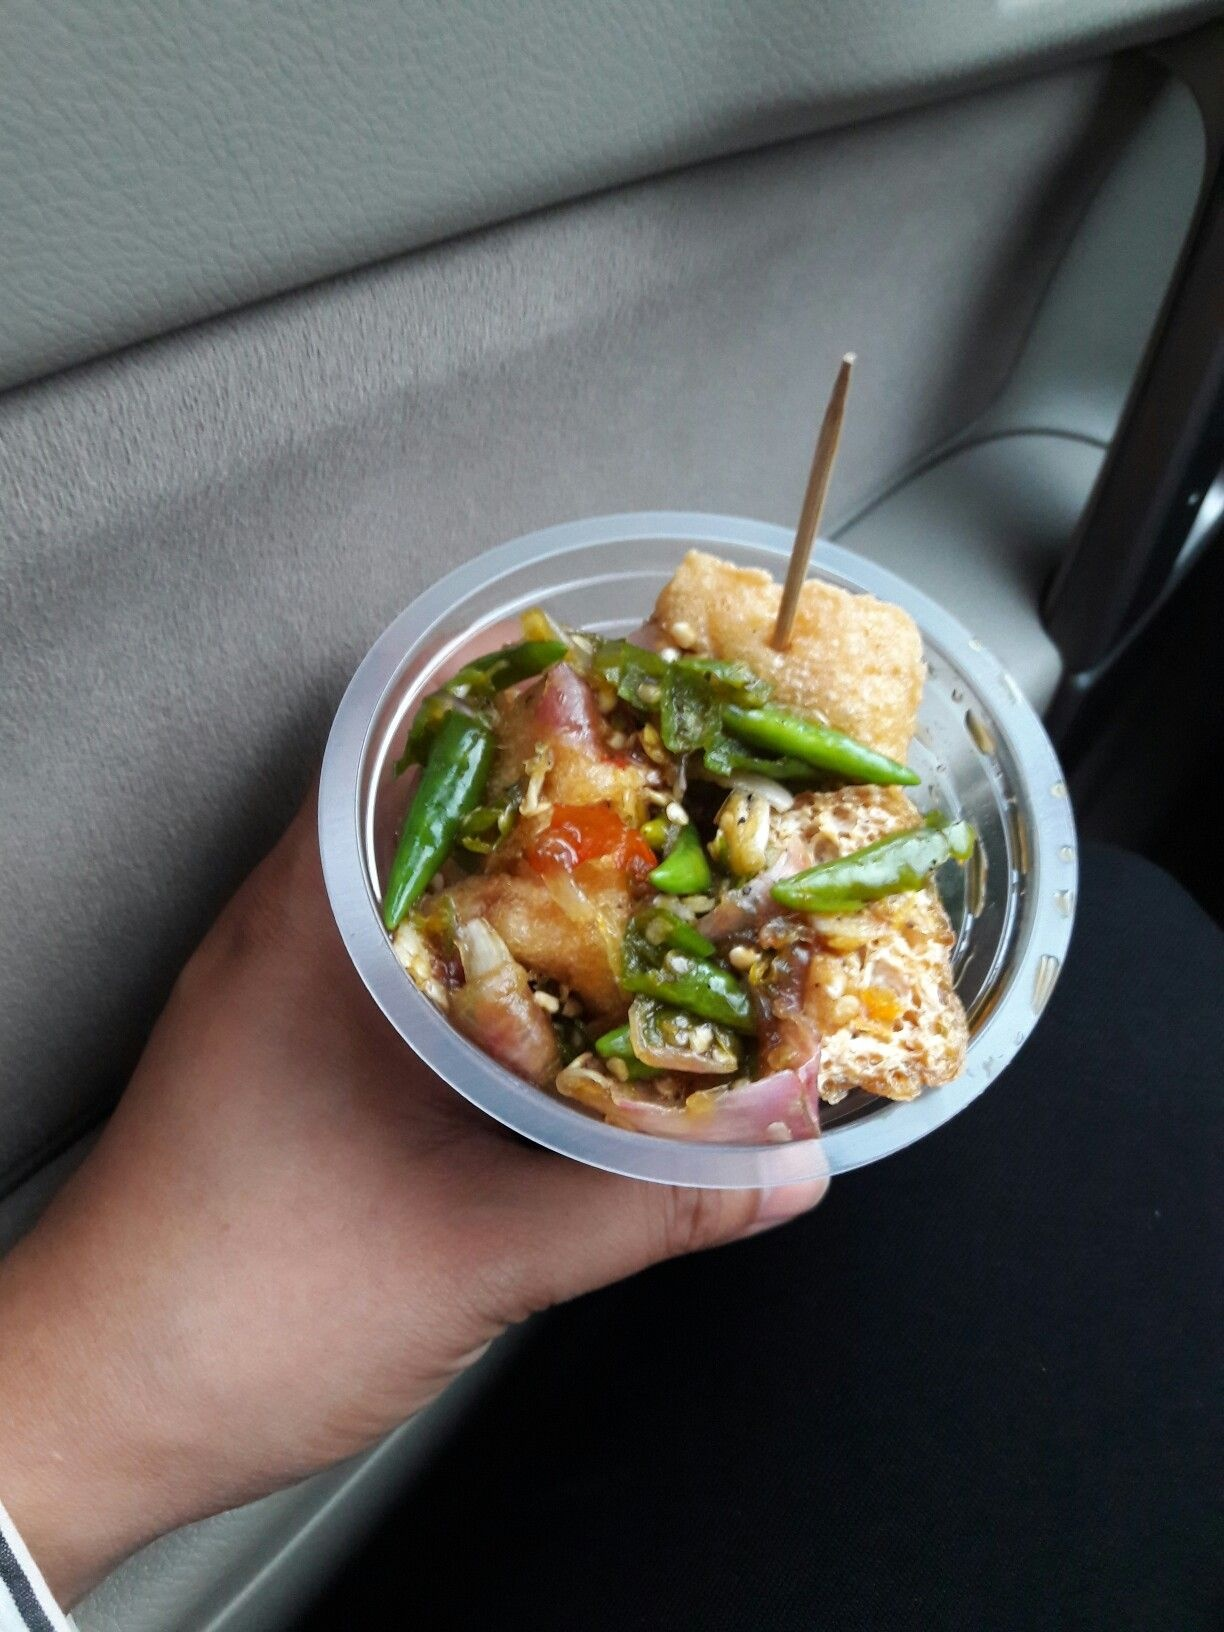tahu_gejrot: (417, 553, 1003, 1150)
